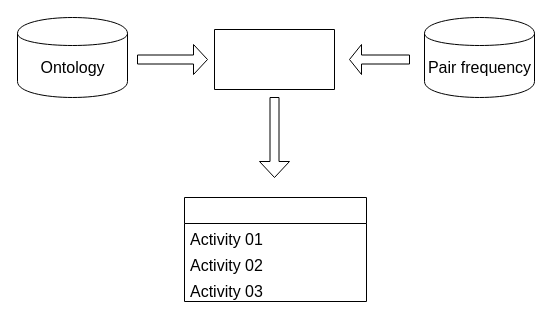
The diagram is 552 pixels wide and 322 high, and some of its shapes have lost their labels. The shapes that lost their labels are listed below. From the top down, each one's box as (x1, y1, x2, y2) in pixels, then its label:
(214, 28, 334, 90): Recommendation Engine
(184, 196, 366, 302): Recommendation List
